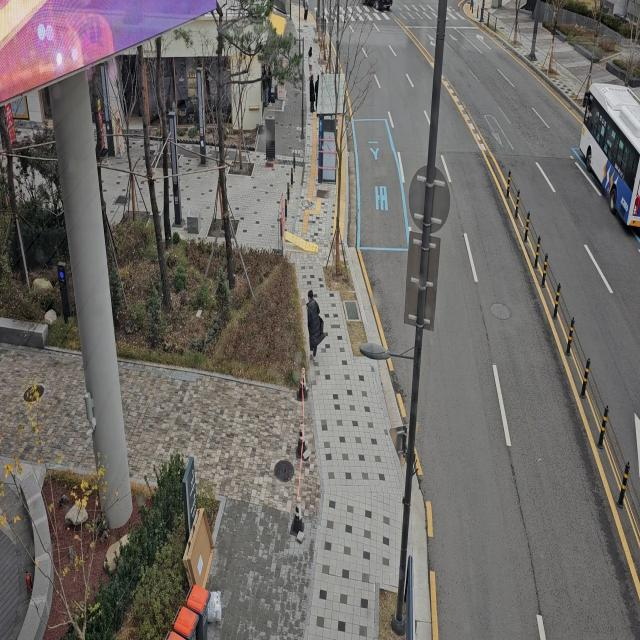Bus: (574, 54, 640, 242)
Car: (358, 0, 396, 14)
